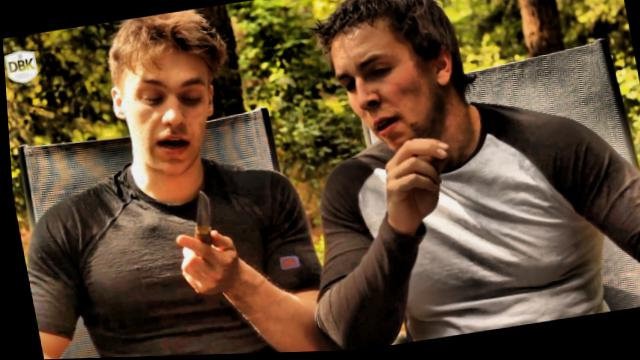knife: (161, 182, 237, 292)
